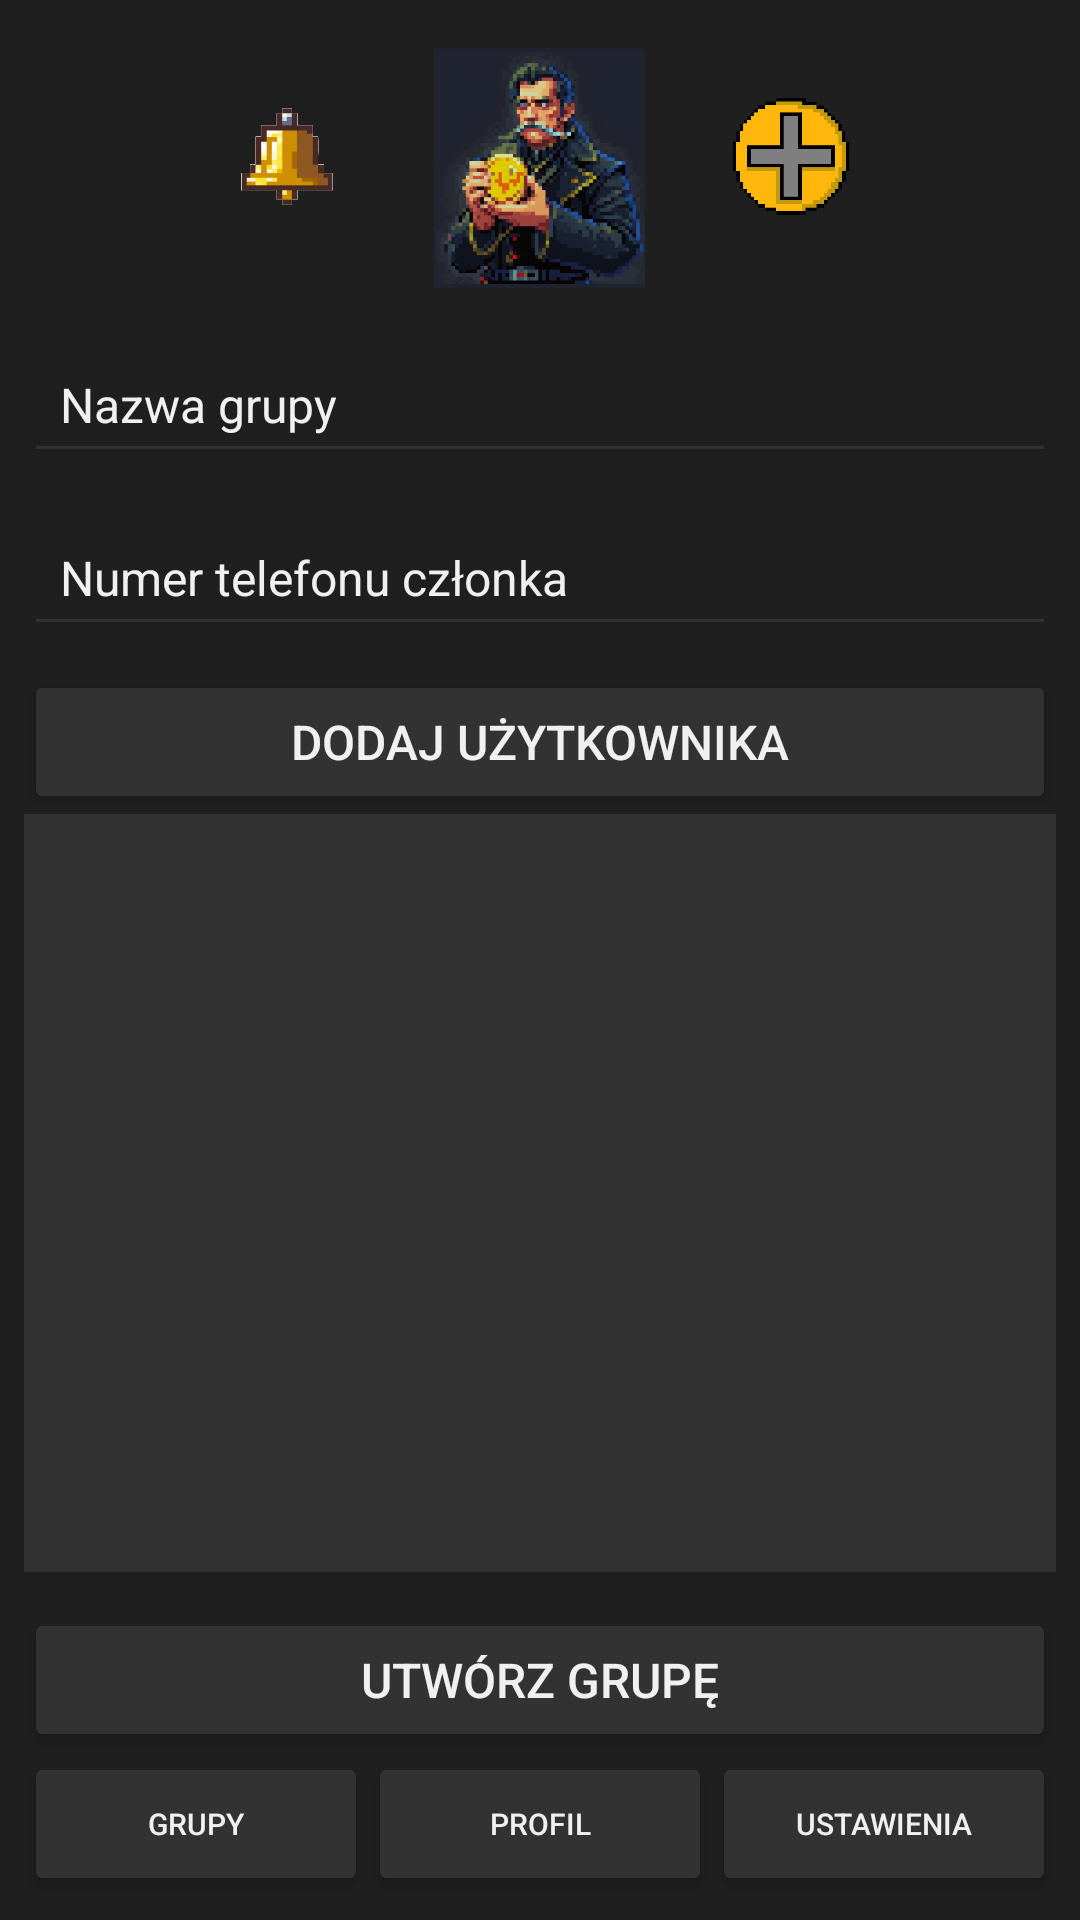

Locate icon controls on the screen. Image size 1080 x 1920, boxes as Rect(x1, y1, x2, y2).
Notifications Icon: Rect(241, 108, 333, 205)
plus: Rect(733, 98, 849, 215)
